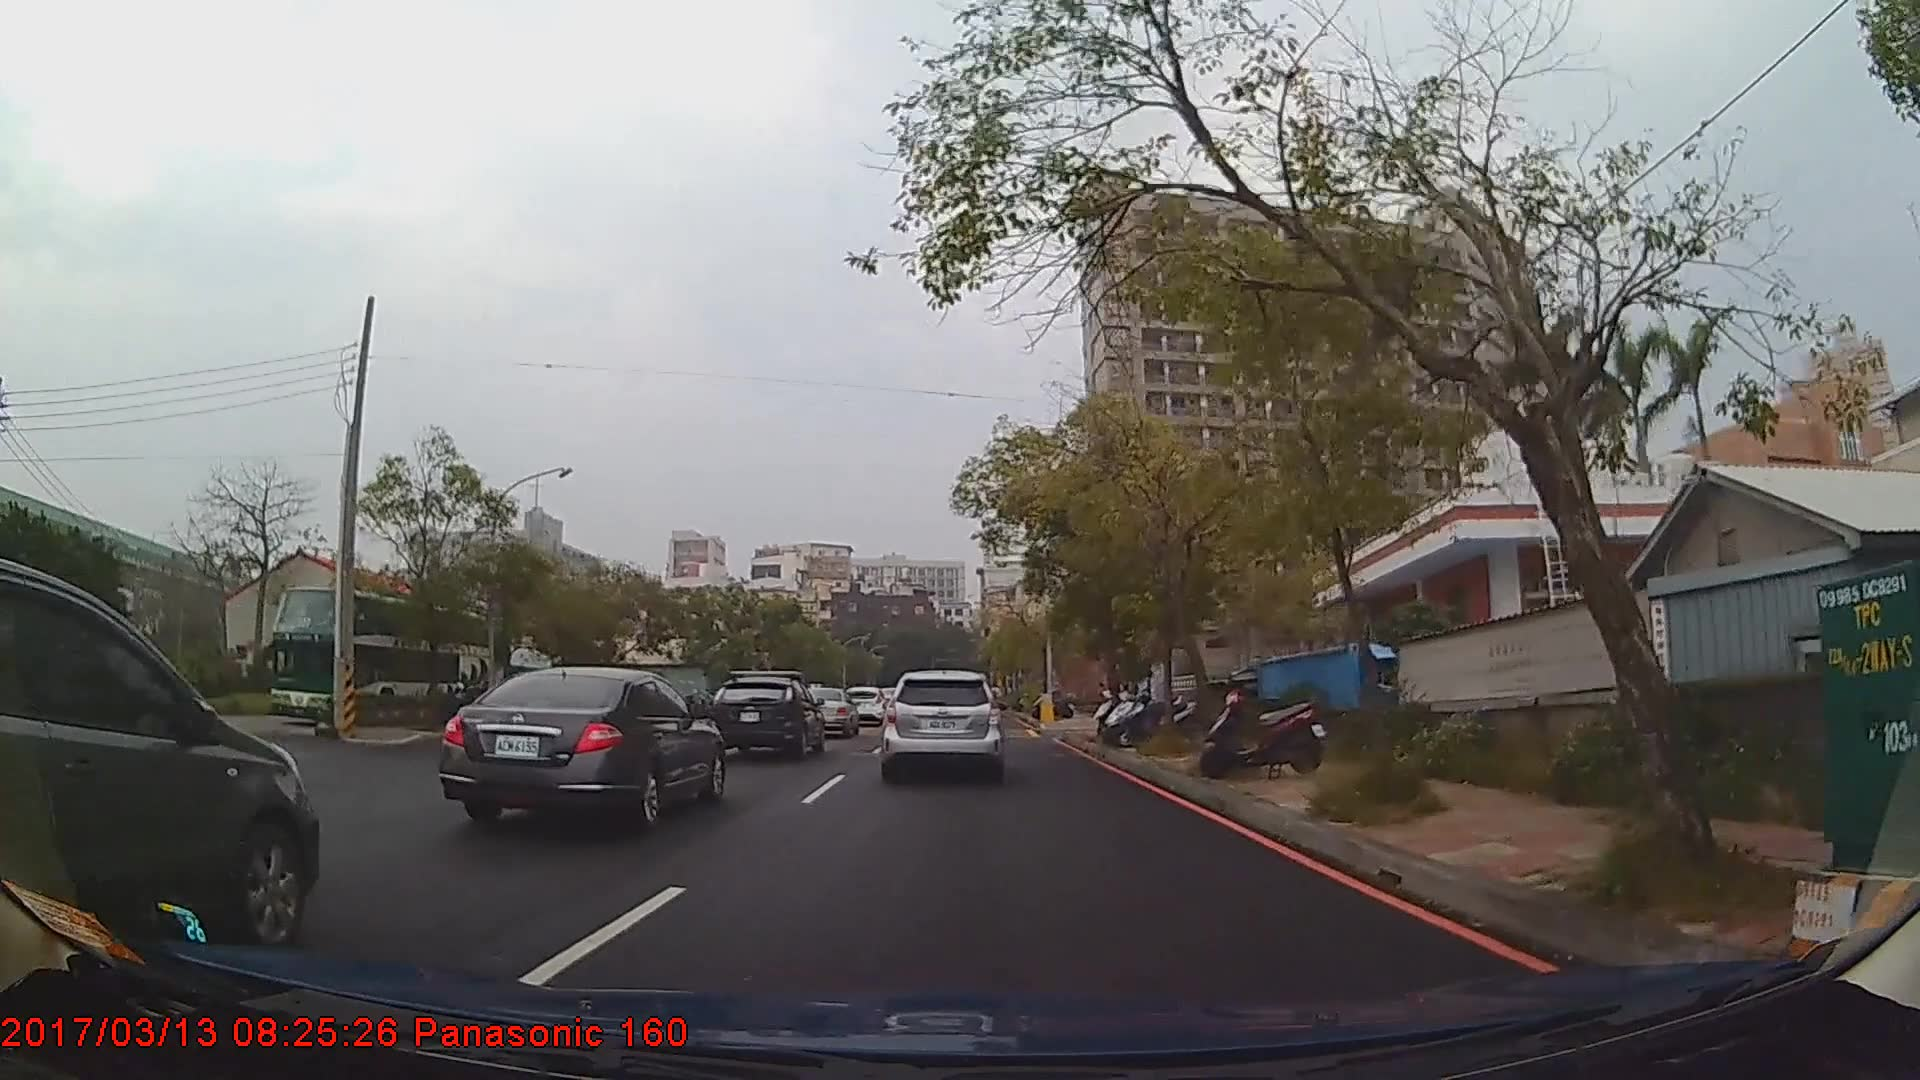vehicle: (0, 551, 320, 957), (438, 662, 727, 827), (266, 584, 487, 732), (880, 667, 1004, 779), (708, 669, 823, 760), (800, 684, 858, 738), (840, 684, 886, 727)
